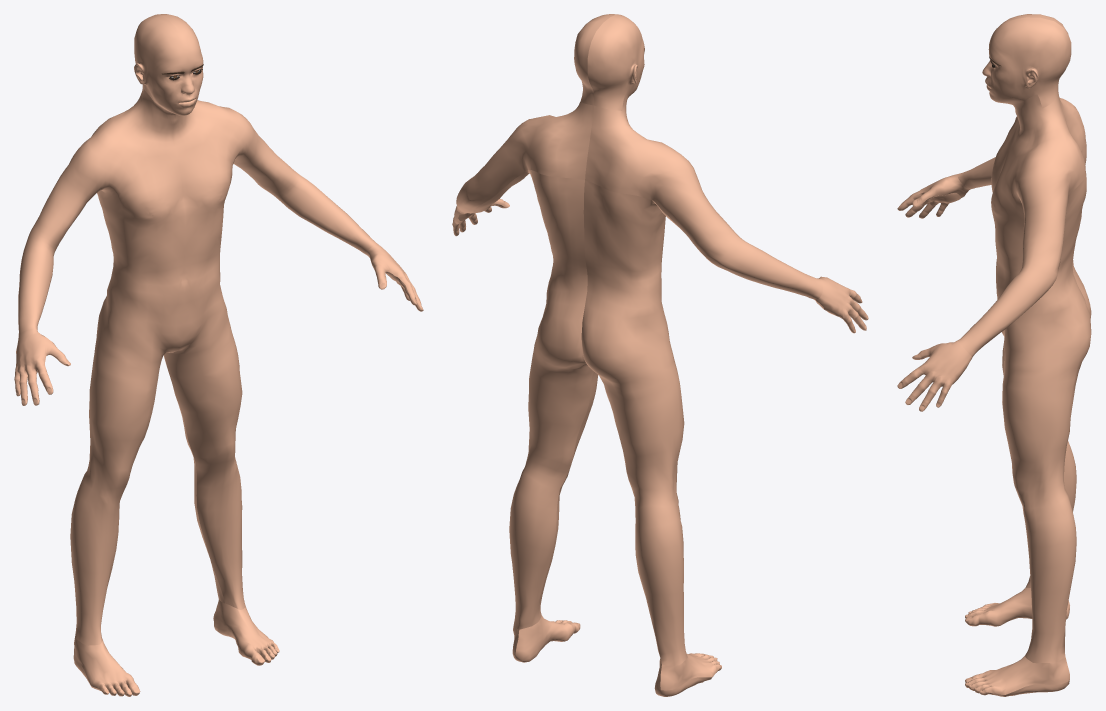
Rendered from male.glb.
3 views of the same model, side by side, from view 1: azimuth 30°, elevation 25°; view 2: azimuth 150°, elevation 25°; view 3: azimuth 270°, elevation 25° (orthographic).
Visible parts, largest first — view 1: Body; view 2: Body; view 3: Body.
Part boxes in pixels (<box>): Body: <box>14,14,423,696</box>; Body: <box>452,14,868,696</box>; Body: <box>897,14,1091,696</box>.
Size of the model in its own units: 1.31 by 2 by 0.5508.
